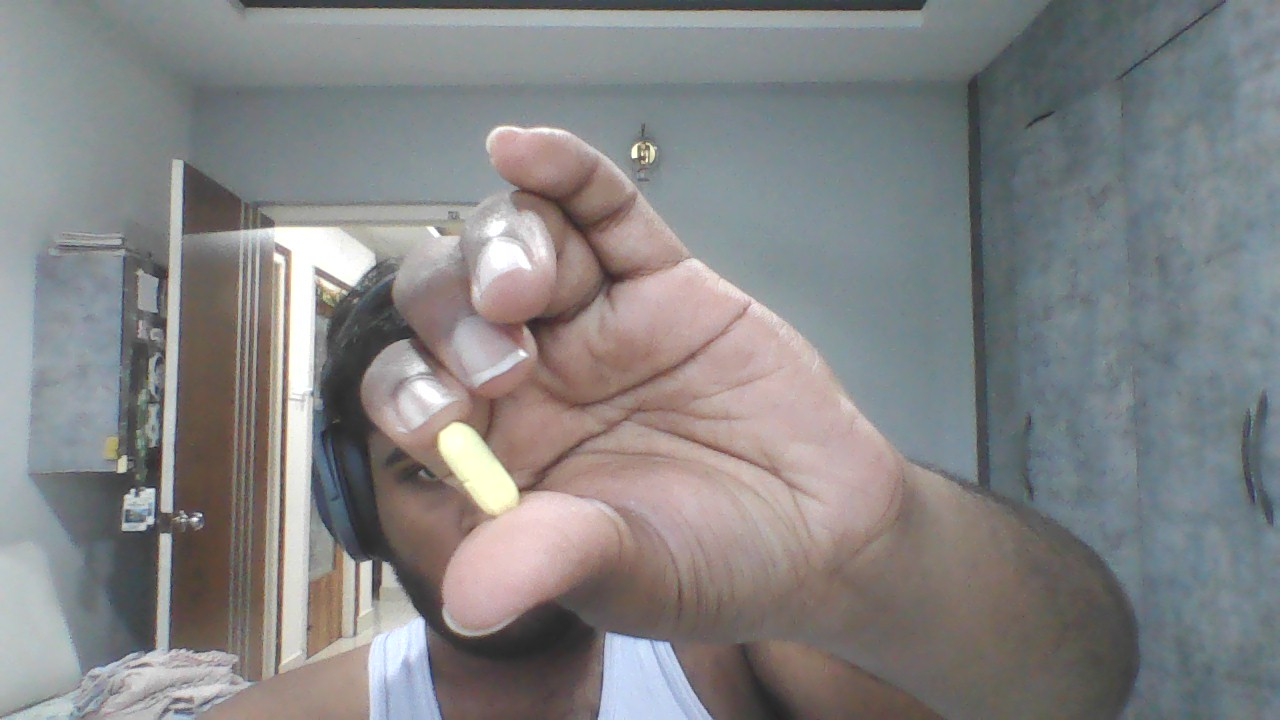Norflox TZ: (428, 425, 524, 518)
